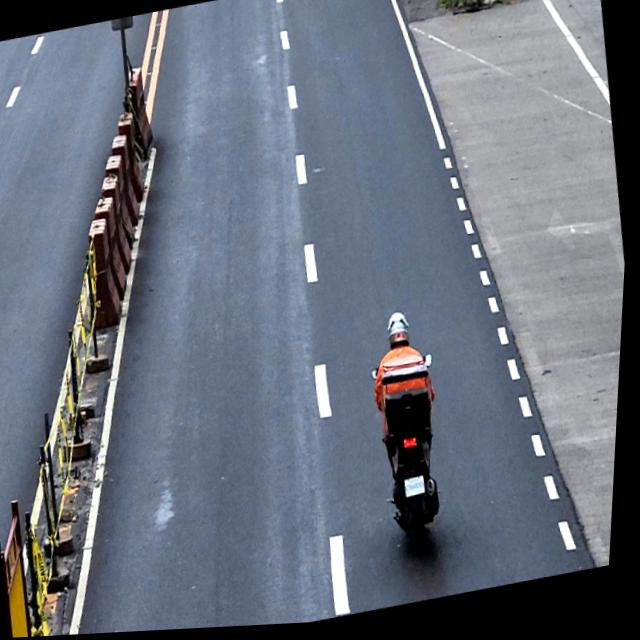License-Plate: (408, 478, 433, 504)
Motorcycle: (367, 356, 463, 561)
